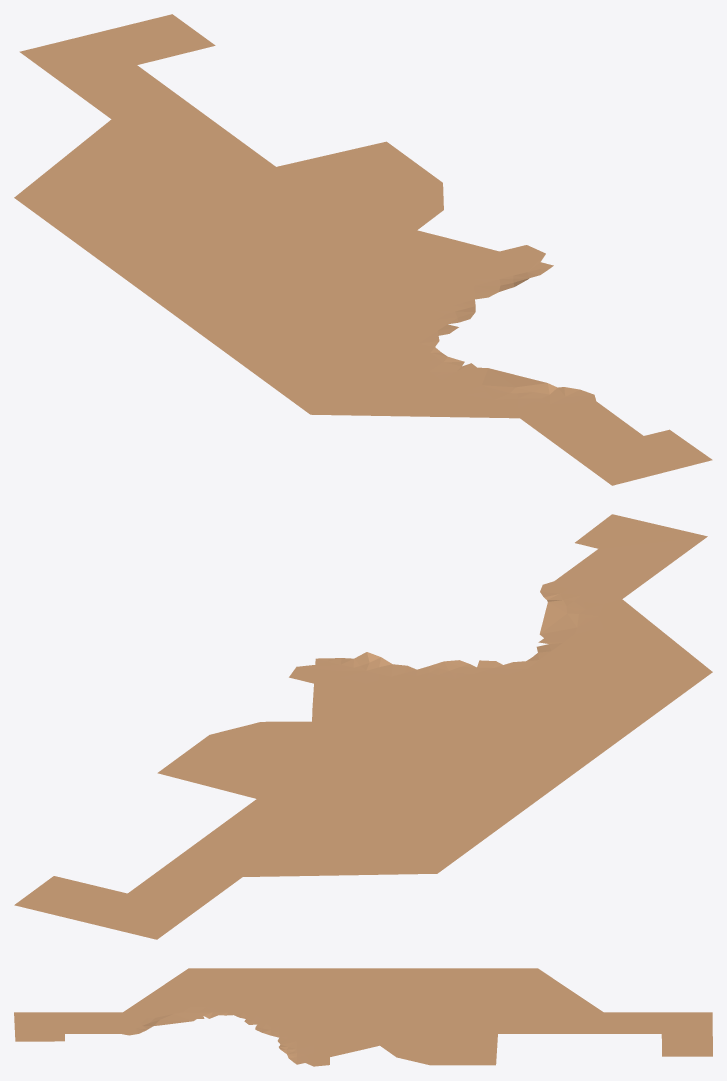
The model's file is Arena2.1.fbx.
The picture shows the model from 3 angles, top to bottom: view 1: azimuth 30°, elevation 25°; view 2: azimuth 150°, elevation 25°; view 3: azimuth 270°, elevation 25°; orthographic projection. The views are drawn at different scales.
Visible parts, largest first — view 1: Arena2.1; view 2: Arena2.1; view 3: Arena2.1.
Boxes of the visible parts, x1,y1,x2,y2 form: Arena2.1: (14, 14, 712, 485); Arena2.1: (14, 514, 712, 939); Arena2.1: (14, 968, 712, 1066).
Bounding box in the file's own units: 1331 × 31.66 × 3998.
